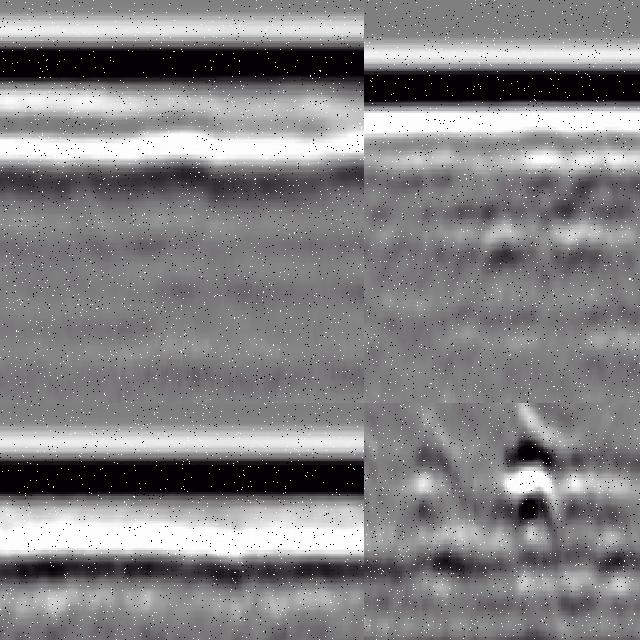crack: (365, 100, 383, 404)
loose: (497, 422, 640, 576)
